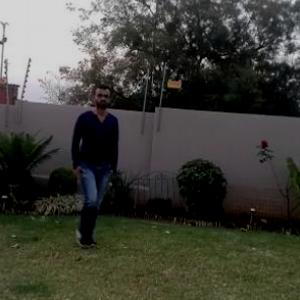follow: (70, 89, 118, 230)
